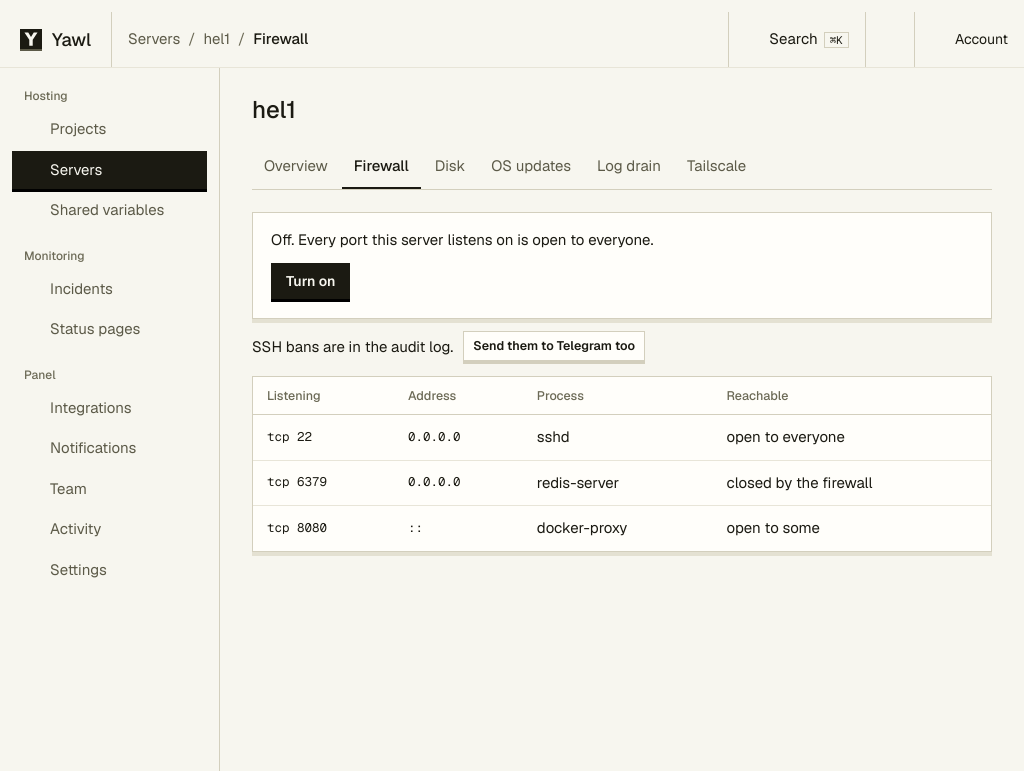
Test case: Firewall › turns on, then asks to keep with a countdown
Click the button "Turn on": (311, 281) [271,263,350,299]
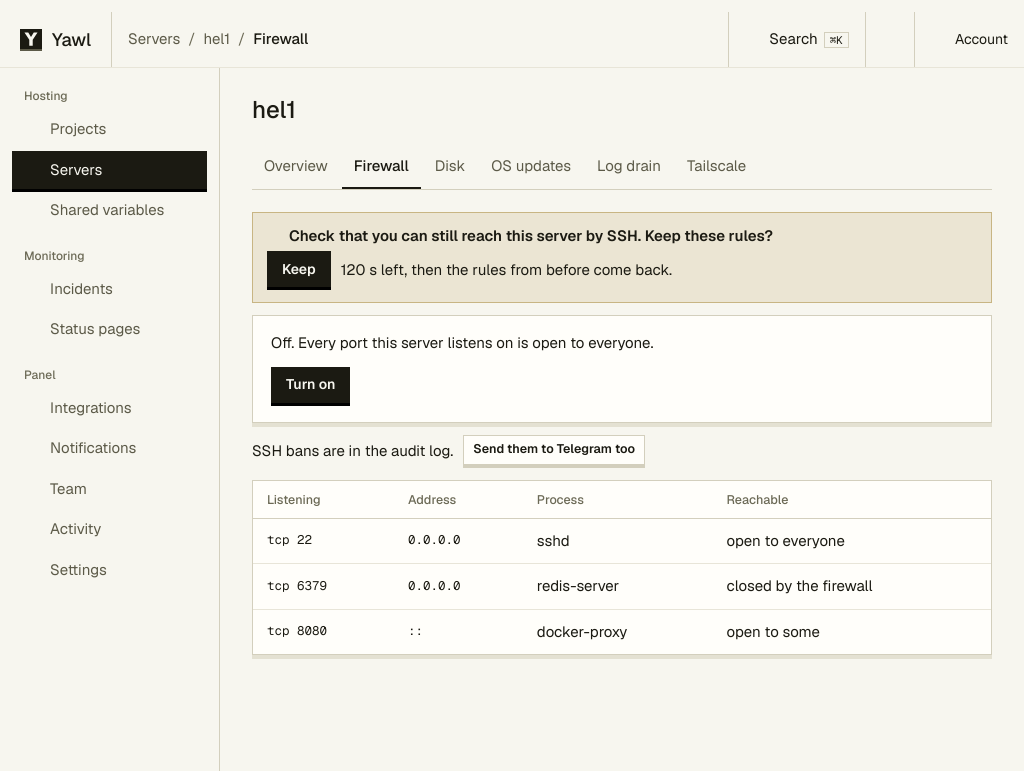
Expected: the text "Check that you can still reach this server by SSH. Keep these rules?" is shown, [289,226,773,244]
Expected: the text "120 s left, then the rules from before come back." is shown, [341,259,672,282]
Click the button "Keep": (299, 269) [267,251,331,287]
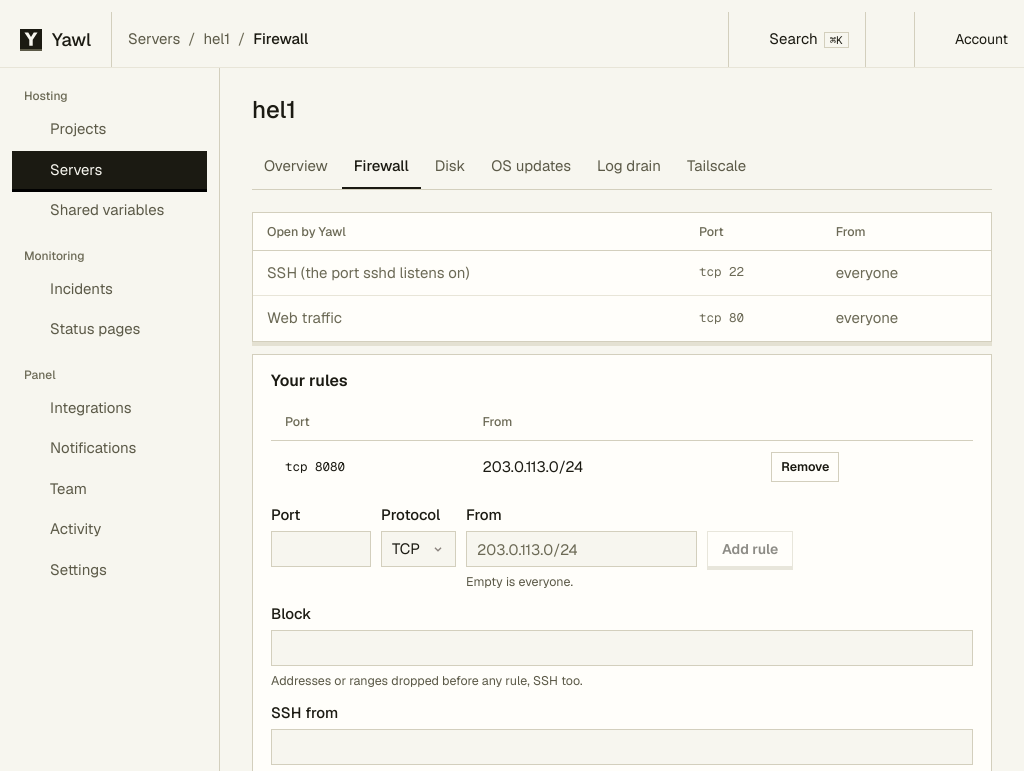
Expected: the text "SSH (the port sshd listens on)" is shown, [253,250,685,296]
